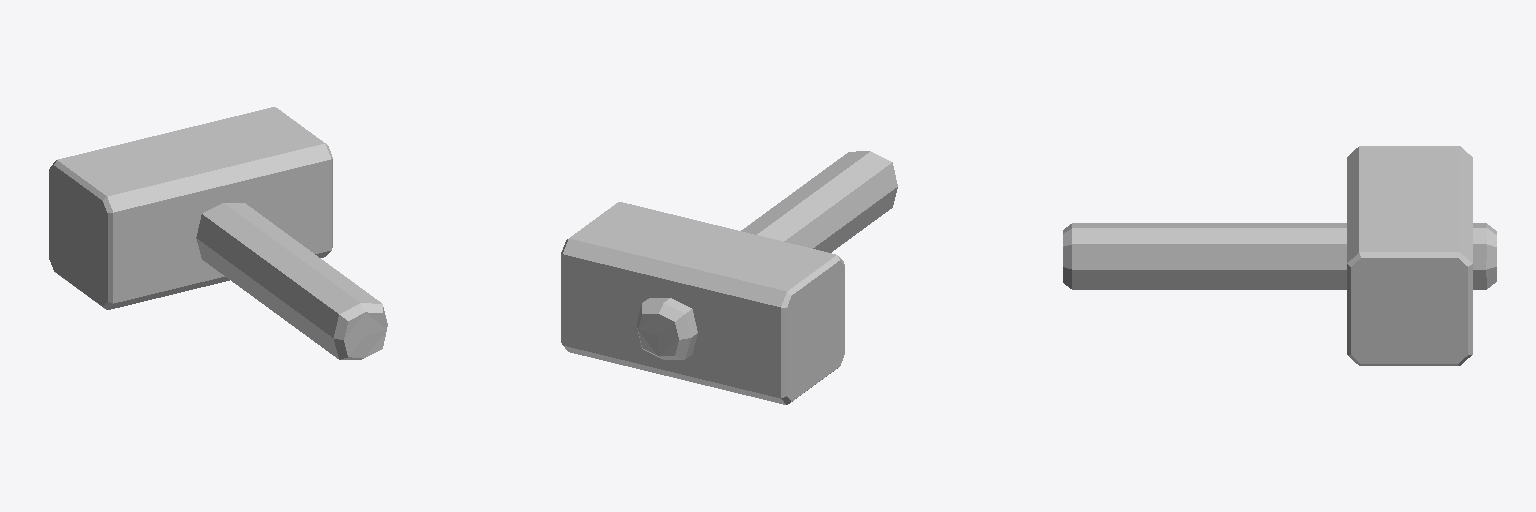
The model's file is Hammer 1.obj.
3 views of the same model, side by side, from view 1: azimuth 30°, elevation 25°; view 2: azimuth 150°, elevation 25°; view 3: azimuth 270°, elevation 25° (orthographic).
Parts seen in each view (by area): view 1: Hammer_Head, Hammer_Handle; view 2: Hammer_Head, Hammer_Handle; view 3: Hammer_Head, Hammer_Handle.
Boxes of the visible parts, <box> form: Hammer_Head: <box>49,107,332,309</box>; Hammer_Handle: <box>196,203,387,359</box>; Hammer_Head: <box>561,202,844,404</box>; Hammer_Handle: <box>637,151,897,359</box>; Hammer_Head: <box>1347,146,1472,365</box>; Hammer_Handle: <box>1063,223,1496,289</box>.
Size of the model in its own units: 2.07 by 1 by 3.45.